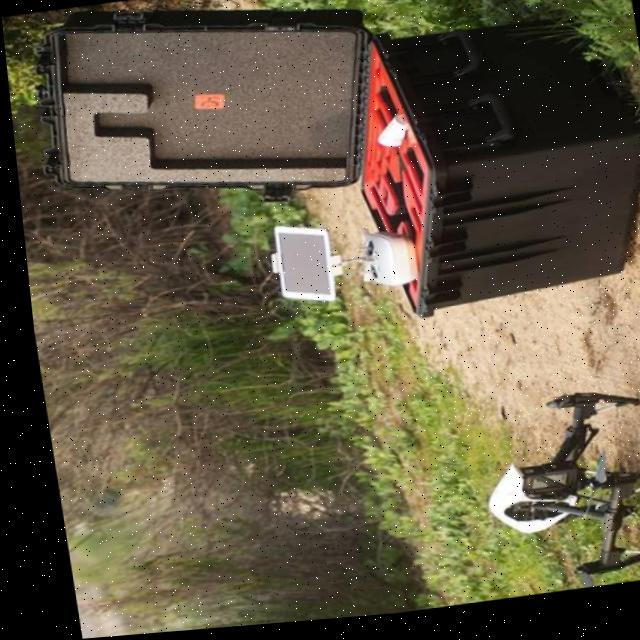drones: (439, 341, 640, 609)
